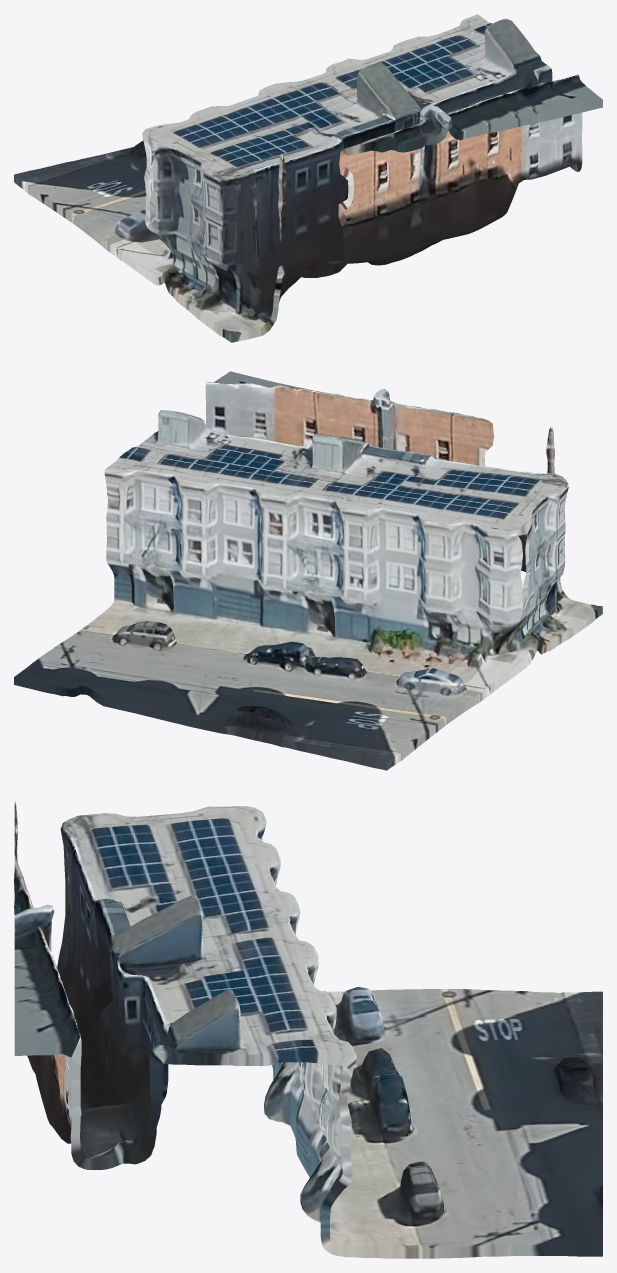
File: z20-167729-405193-h0-yup-uvflip-v3-world.glb
3 renders of one model, top to bottom at view 1: azimuth 30°, elevation 25°; view 2: azimuth 150°, elevation 25°; view 3: azimuth 270°, elevation 25°, orthographic. The views are drawn at different scales.
Size of the model in its own units: 30.16 by 14.08 by 30.36.
1 material, 1 textured.
